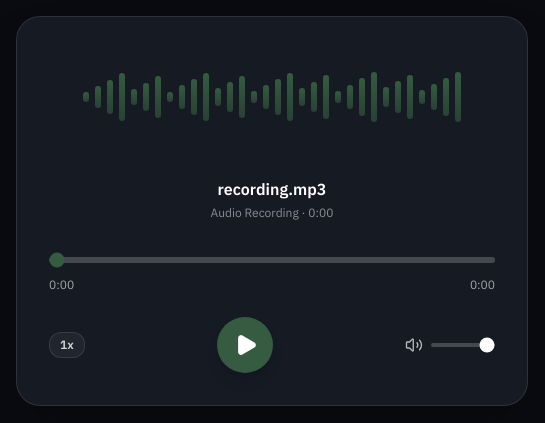
Document Viewers for all artifact types › AudioViewer › renders audio player with controls and playback speed
The image size is (545, 423).
Expected: the text "recording.mp3" is shown, x1=218 y1=179 x2=326 y2=199
Expected: the button named "Play" is shown, x1=217 y1=317 x2=273 y2=373
Click the button "1x": (67, 345) x1=49 y1=332 x2=85 y2=358
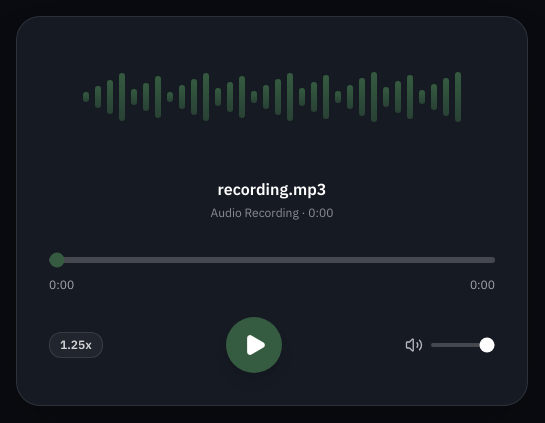
Now the button "1.25x" is shown, box x1=49 y1=332 x2=103 y2=358
